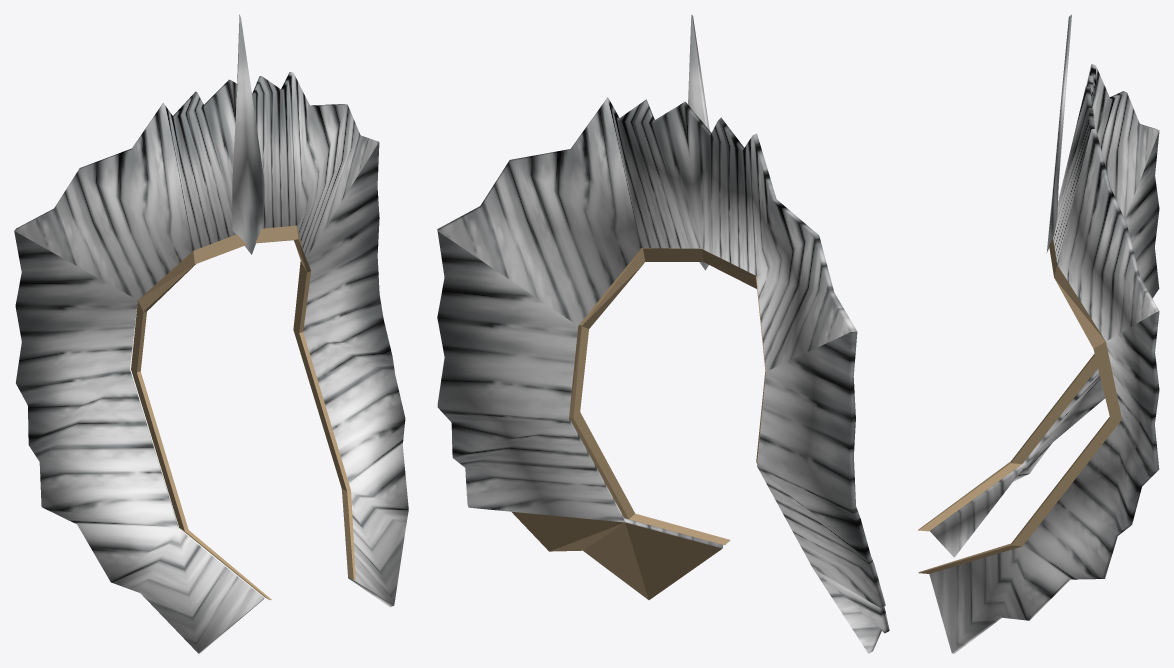
File: inca_cocar_sul.dae
The picture shows the model from 3 angles, left to right: view 1: azimuth 30°, elevation 25°; view 2: azimuth 150°, elevation 25°; view 3: azimuth 270°, elevation 25°; orthographic projection. The views are drawn at different scales.
Parts seen in each view (by area): view 1: cocar.002; view 2: cocar.002; view 3: cocar.002.
Boxes of the visible parts, left/top/right/bottom form: cocar.002: left=14, top=14, right=408, bottom=653; cocar.002: left=437, top=14, right=889, bottom=653; cocar.002: left=918, top=14, right=1159, bottom=653.
Bounding box in the file's own units: 0.9286 × 0.5145 × 1.4.
